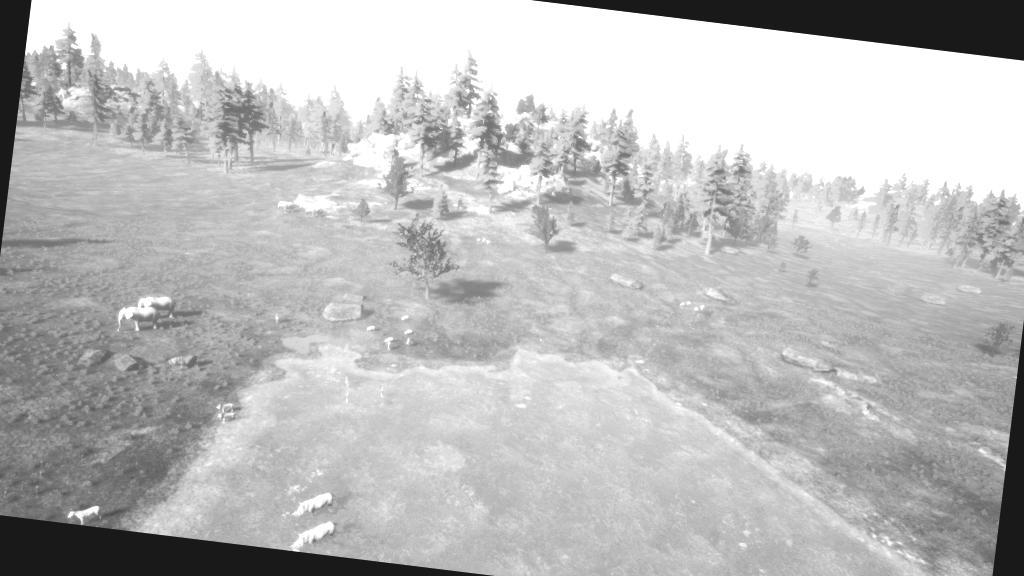Fire: (325, 335, 349, 352)
elephant: (106, 302, 174, 349)
lion: (213, 398, 251, 436)
pig: (380, 328, 406, 358)
rhinoceros: (282, 514, 350, 556), (282, 481, 346, 523)
